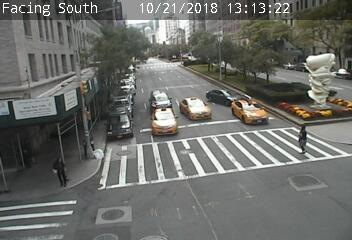car: (150, 108, 178, 136), (238, 101, 262, 124), (183, 98, 206, 118), (150, 88, 170, 110), (209, 92, 231, 103)
